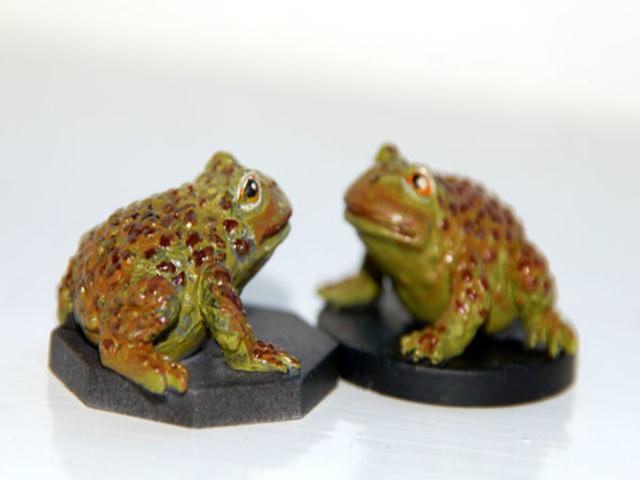frog: (310, 134, 576, 394), (50, 153, 304, 399)
